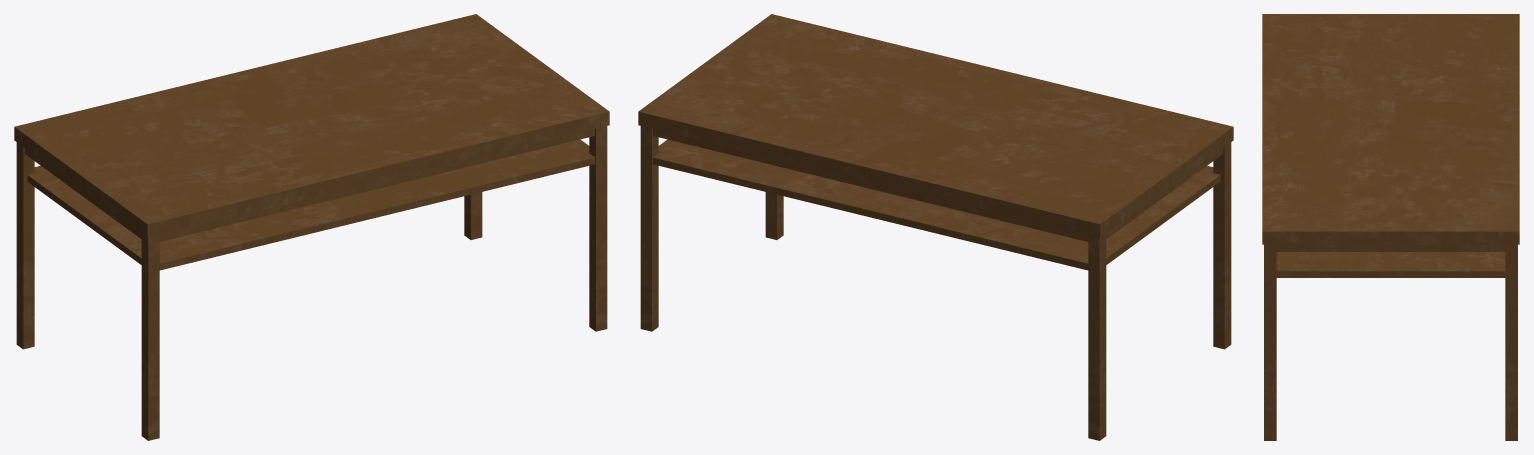
File: LongTable_1.fbx
3 renders of one model, left to right at view 1: azimuth 30°, elevation 25°; view 2: azimuth 150°, elevation 25°; view 3: azimuth 270°, elevation 25°, orthographic. The views are drawn at different scales.
Parts seen in each view (by area): view 1: LongTable_1; view 2: LongTable_1; view 3: LongTable_1.
Part boxes in pixels (left/top/right/bottom): LongTable_1: left=14, top=14, right=609, bottom=440; LongTable_1: left=638, top=14, right=1233, bottom=440; LongTable_1: left=1262, top=14, right=1519, bottom=440.
Size of the model in its own units: 2 by 0.9 by 1.
